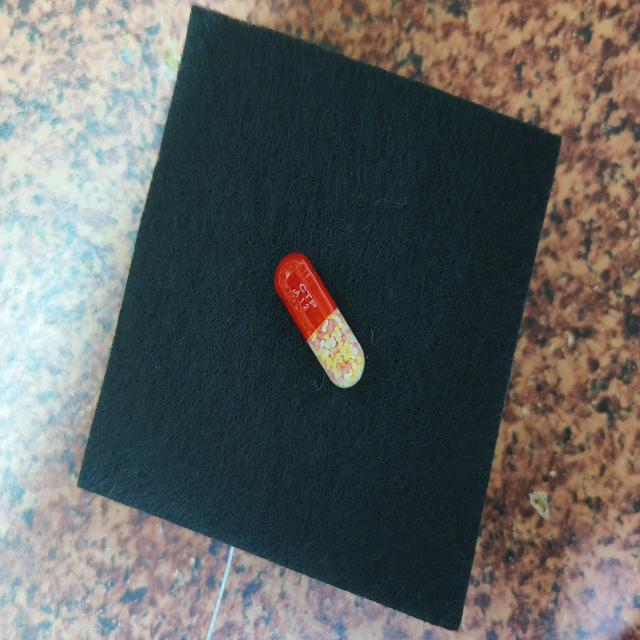Intact Capsule: (274, 252, 365, 388)
